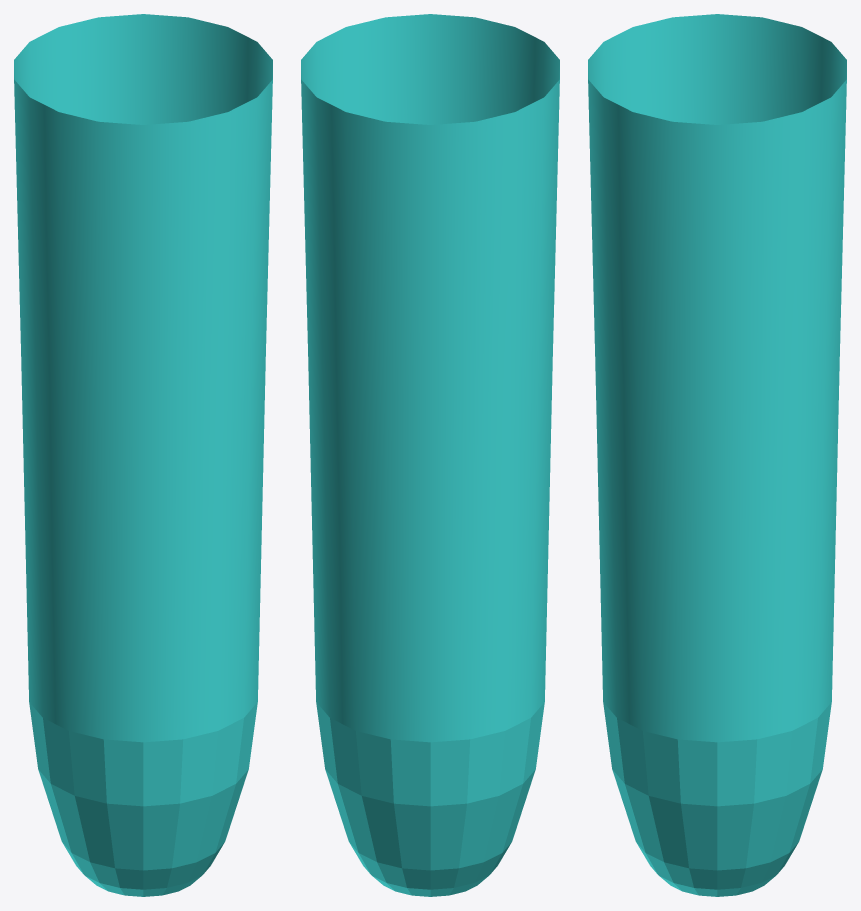
Rendered from TestTube_Down.FBX.
3 views of the same model, side by side, from view 1: azimuth 30°, elevation 25°; view 2: azimuth 150°, elevation 25°; view 3: azimuth 270°, elevation 25° (orthographic).
Visible parts, largest first — view 1: Cylinder001; view 2: Cylinder001; view 3: Cylinder001.
Boxes of the visible parts, <box> form: Cylinder001: <box>14,14,272,896</box>; Cylinder001: <box>301,14,559,896</box>; Cylinder001: <box>588,14,846,896</box>.
Size of the model in its own units: 155 by 540 by 153.
